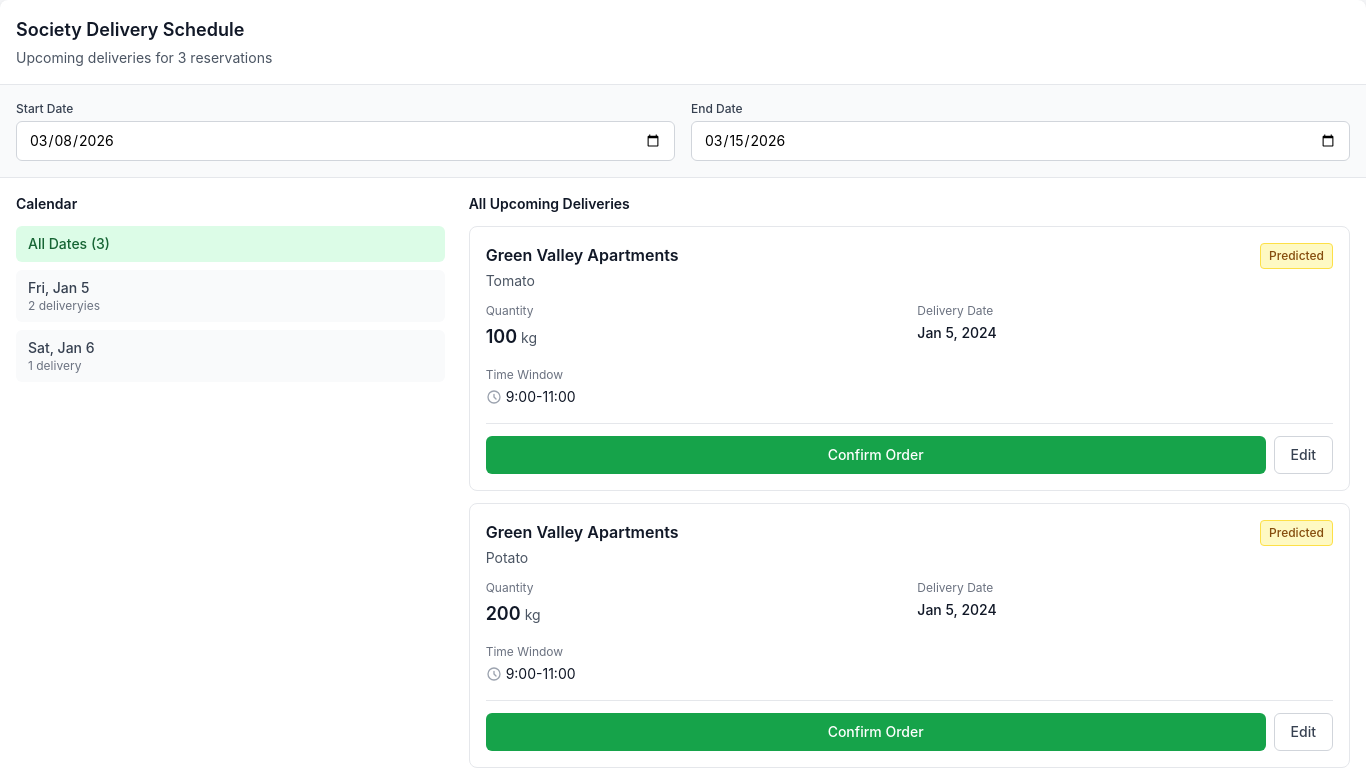
SocietyScheduleView › should filter deliveries by selected date
Expected: the heading "Society Delivery Schedule" is shown, [16,19,244,40]
Expected: the heading "All Upcoming Deliveries" is shown, [469,195,630,212]
Click the 2nd button. click: (59, 288)
box: [16,270,445,322]
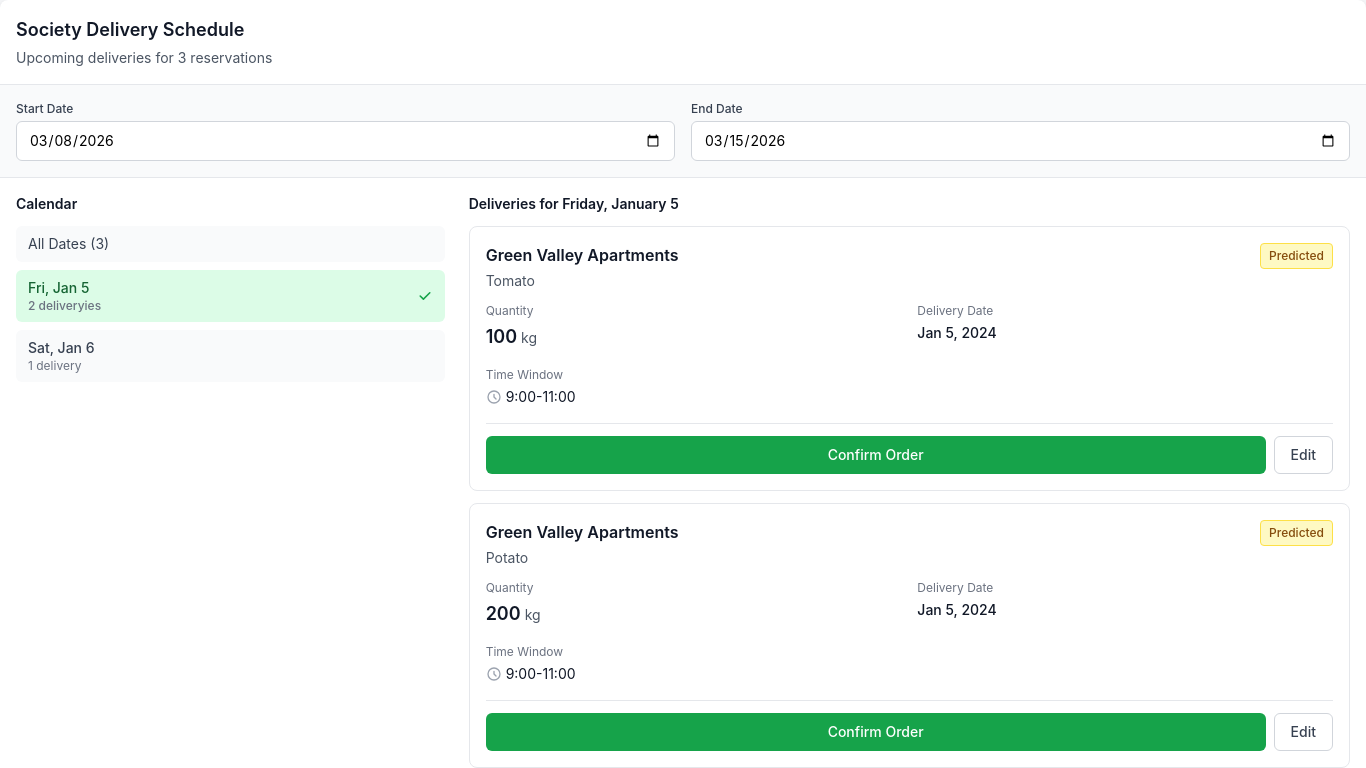
Expected: the heading "Deliveries for Friday, January 5" is shown, [469,195,679,212]
